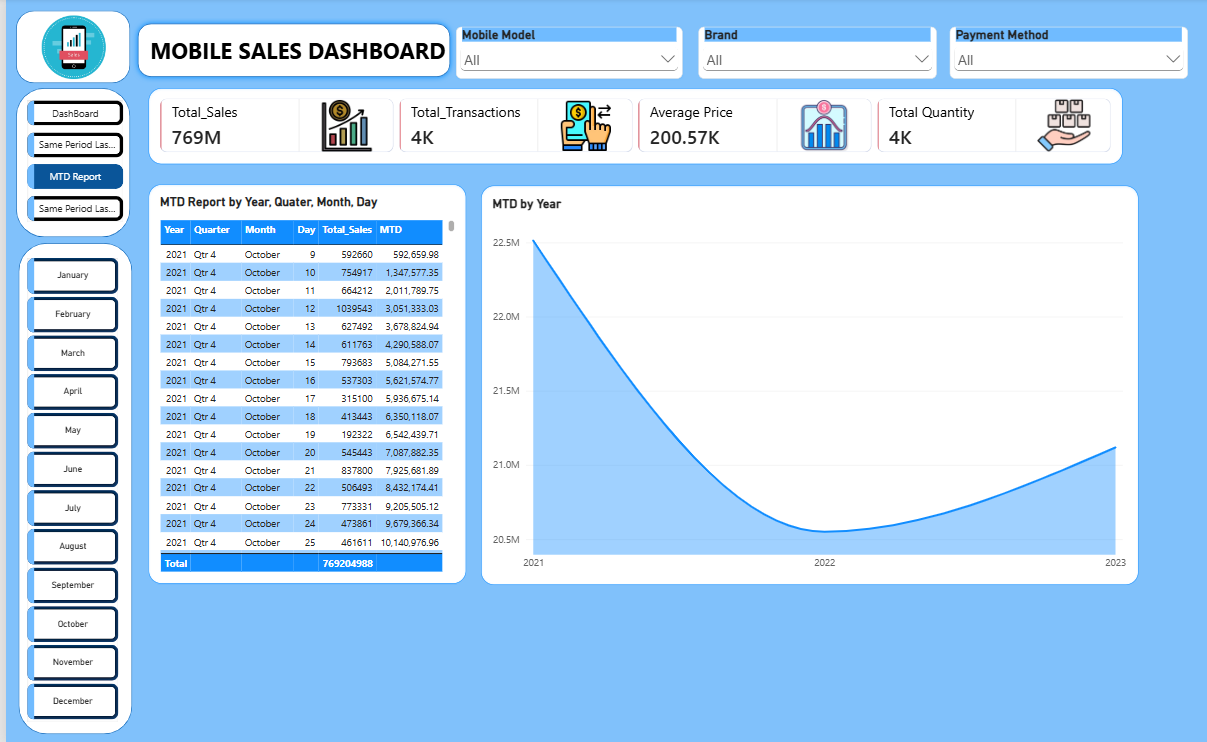

The page's visual inventory and layout, read from the dashboard file:
{"tool":"powerbi","page":{"name":"MTD Report","canvas":[1920,1080],"ordinal":3},"visuals":[{"type":"shape","box":[14.6,18.5,165.4,105.4],"z":0},{"type":"image","box":[24.6,25.4,145.4,92.3],"z":1000},{"type":"shape","box":[18.1,354.7,164.7,711.2],"z":2000},{"type":"shape","box":[14.6,130,165.4,216.2],"z":3000},{"type":"advancedSlicerVisual","fields":{"Values":["Custom_Calender.Date.Variation.Date Hierarchy.Month"]},"box":[30.8,376.4,132.1,671.4],"z":4000},{"type":"cardVisual","fields":{"Data":["MoblieSales_Data.Total_Sales","MoblieSales_Data.Total_Transactions","MoblieSales_Data.Average Price","MoblieSales_Data.Total Quantity"]},"box":[206.7,130,1410,110],"z":5000},{"type":"slicer","fields":{"Values":["MoblieSales_Data.Mobile Model"]},"box":[651.7,41.7,328.3,75],"z":6000},{"type":"slicer","fields":{"Values":["MoblieSales_Data.Brand"]},"box":[1001.7,41.7,345,75],"z":7000},{"type":"slicer","fields":{"Values":["MoblieSales_Data.Payment Method"]},"box":[1366.7,41.7,345,75],"z":8000},{"type":"shape","box":[183.3,28.3,468.3,93.3],"z":9000},{"type":"textbox","box":[195,55,456.7,61.7],"z":10000},{"type":"tableEx","title":"MTD Report by Year, Quater, Month, Day","fields":{"Values":["Custom_Calender.Date.Variation.Date Hierarchy.Year","Custom_Calender.Date.Variation.Date Hierarchy.Quarter","Custom_Calender.Date.Variation.Date Hierarchy.Month","Custom_Calender.Date.Variation.Date Hierarchy.Day","MoblieSales_Data.Total_Sales","MoblieSales_Data.MTD"]},"box":[206.7,270,460,578.3],"z":11000},{"type":"lineChart","fields":{"Category":["Custom_Calender.Date.Variation.Date Hierarchy.Year","Custom_Calender.Date.Variation.Date Hierarchy.Quarter","Custom_Calender.Date.Variation.Date Hierarchy.Month","Custom_Calender.Date.Variation.Date Hierarchy.Day"],"Y":["MoblieSales_Data.MTD"]},"box":[688.3,271.7,951.7,578.3],"z":12000},{"type":"pageNavigator","box":[30.8,148.4,139.3,175.5],"z":13000}]}

Visuals, with their boxes on the page's 1920x1080 design canvas (x1, y1, x2, y2). These are canvas units, not pixel positions in the 1207x742 screenshot, which may show the page scaled, cropped or inside an application window:
shape: (left=15, top=18, right=180, bottom=124)
image: (left=25, top=25, right=170, bottom=118)
shape: (left=18, top=355, right=183, bottom=1066)
shape: (left=15, top=130, right=180, bottom=346)
advancedSlicerVisual - Custom_Calender.Date.Variation.Date Hierarchy.Month: (left=31, top=376, right=163, bottom=1048)
cardVisual - MoblieSales_Data.Total_Sales x MoblieSales_Data.Total_Transactions: (left=207, top=130, right=1617, bottom=240)
slicer - MoblieSales_Data.Mobile Model: (left=652, top=42, right=980, bottom=117)
slicer - MoblieSales_Data.Brand: (left=1002, top=42, right=1347, bottom=117)
slicer - MoblieSales_Data.Payment Method: (left=1367, top=42, right=1712, bottom=117)
shape: (left=183, top=28, right=652, bottom=122)
textbox: (left=195, top=55, right=652, bottom=117)
"MTD Report by Year, Quater, Month, Day" tableEx: (left=207, top=270, right=667, bottom=848)
lineChart - Custom_Calender.Date.Variation.Date Hierarchy.Year x Custom_Calender.Date.Variation.Date Hierarchy.Quarter: (left=688, top=272, right=1640, bottom=850)
pageNavigator: (left=31, top=148, right=170, bottom=324)
